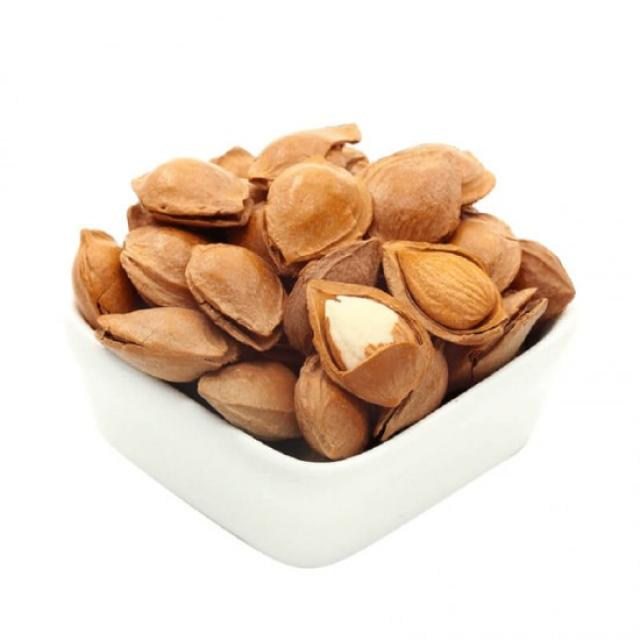cekirdek: (398, 250, 502, 337), (126, 162, 261, 227)
